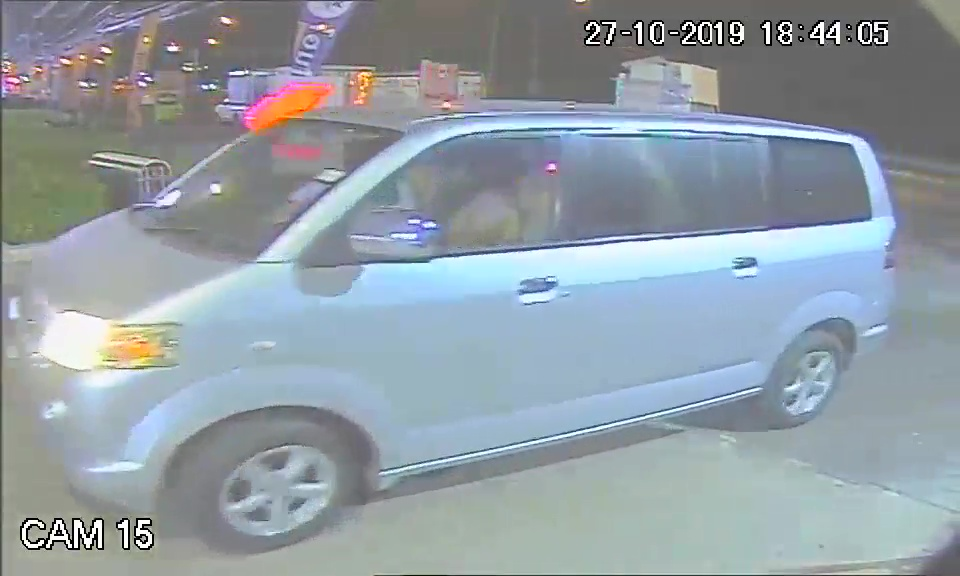van: (20, 99, 902, 515)
